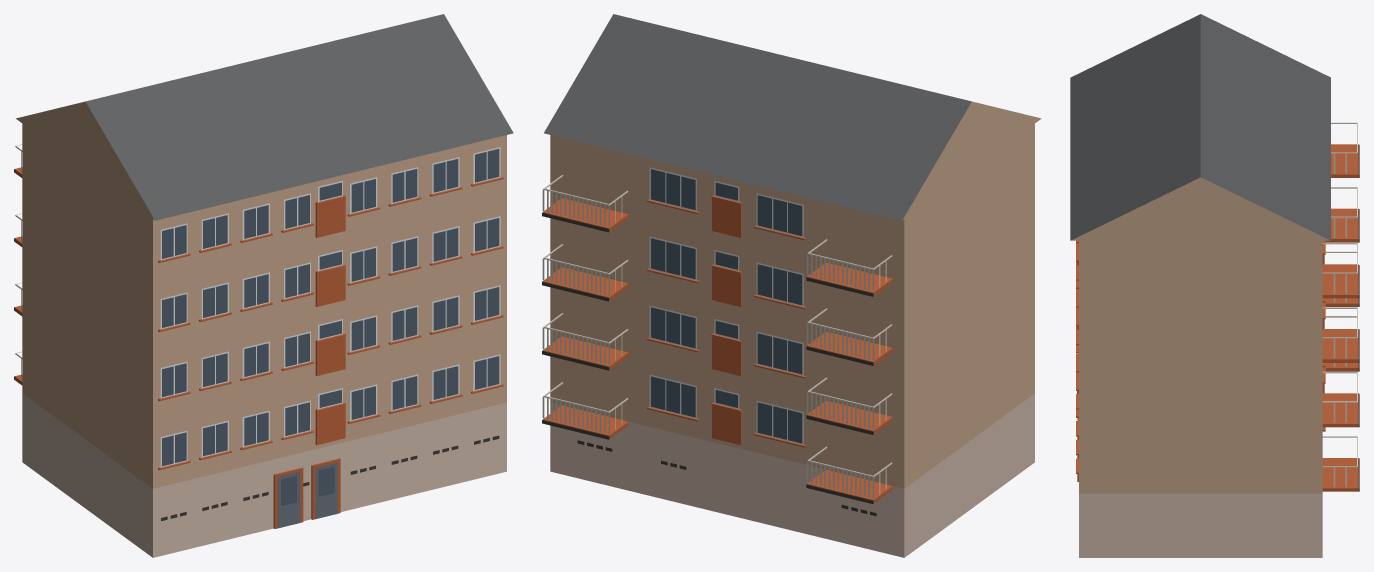
Rendered from nw-peach-render-entrance-front__peach-orange__5__gable__long__solid.glb.
The picture shows the model from 3 angles, left to right: view 1: azimuth 30°, elevation 25°; view 2: azimuth 150°, elevation 25°; view 3: azimuth 270°, elevation 25°; orthographic projection. The views are drawn at different scales.
Visible parts, largest first — view 1: nw-peach-render-entrance-front__peach-orange__5__gable__long; view 2: nw-peach-render-entrance-front__peach-orange__5__gable__long; view 3: nw-peach-render-entrance-front__peach-orange__5__gable__long.
Boxes of the visible parts, x1,y1,x2,y2 form: nw-peach-render-entrance-front__peach-orange__5__gable__long: (14, 14, 513, 557); nw-peach-render-entrance-front__peach-orange__5__gable__long: (542, 14, 1041, 557); nw-peach-render-entrance-front__peach-orange__5__gable__long: (1070, 14, 1359, 557).
Size of the model in its own units: 16.08 by 17.54 by 12.03.
